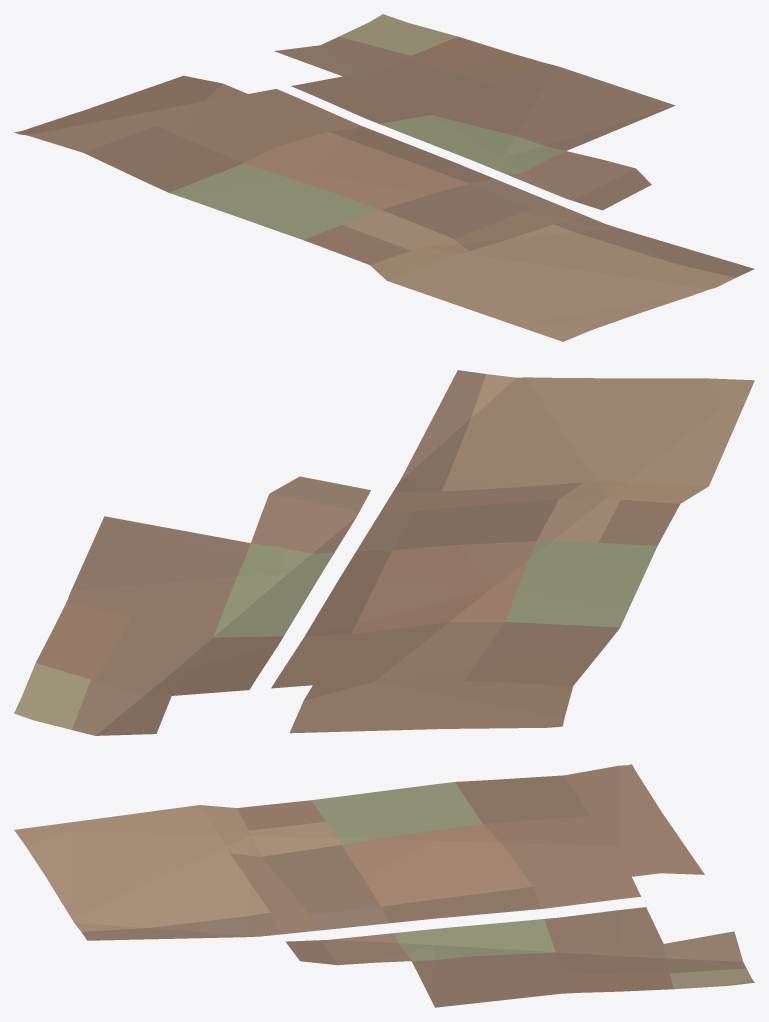
The model's file is farm_-39_-50_soil.glb.
3 views of the same model, one above another, from view 1: azimuth 30°, elevation 25°; view 2: azimuth 150°, elevation 25°; view 3: azimuth 270°, elevation 25° (orthographic). The views are drawn at different scales.
Parts seen in each view (by area): view 1: geometry_0; view 2: geometry_0; view 3: geometry_0.
Part boxes in pixels (left/top/right/bottom): geometry_0: left=14, top=14, right=754, bottom=341; geometry_0: left=14, top=370, right=754, bottom=735; geometry_0: left=14, top=764, right=754, bottom=1007.
Size of the model in its own units: 231 by 25.96 by 321.
